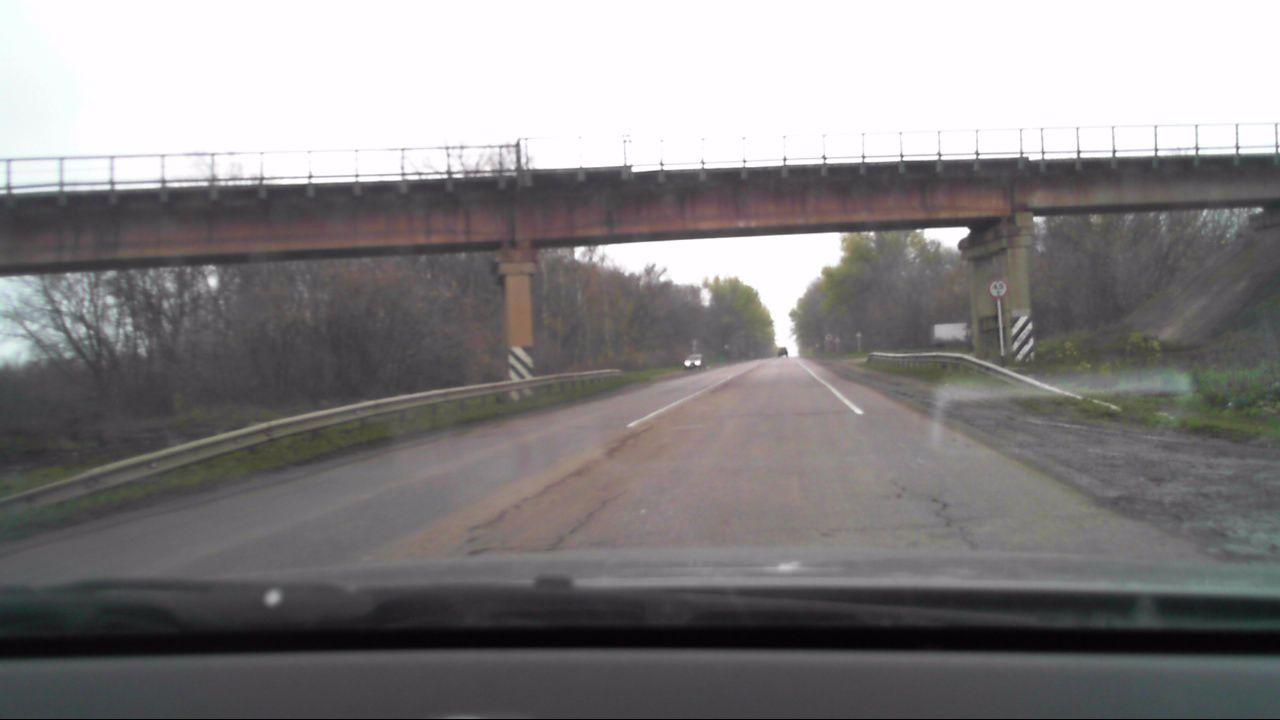3_13: (986, 280, 1008, 302)
